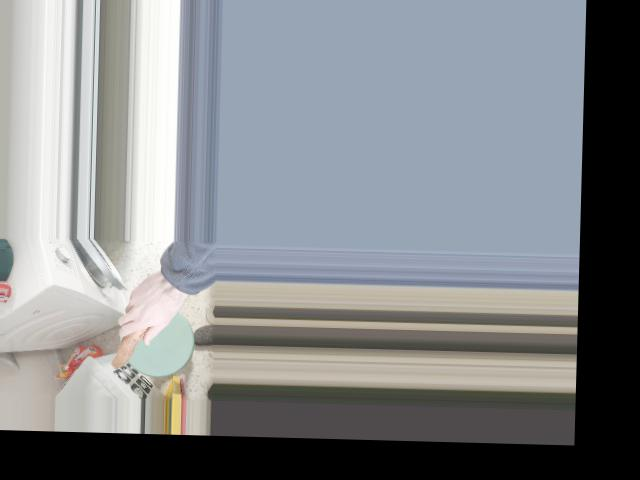sweet_potato: (111, 293, 168, 367)
